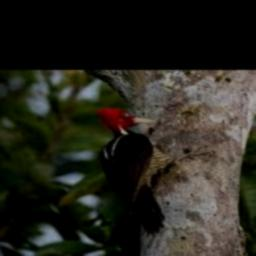Woodpecker: (97, 107, 211, 234)
